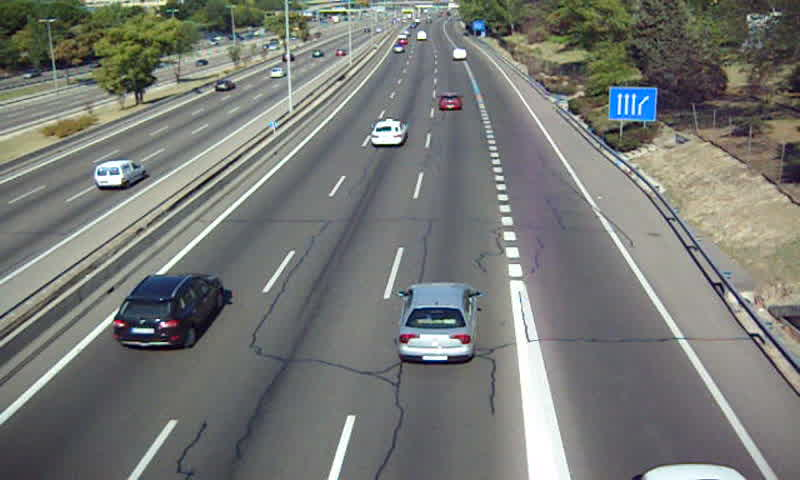car: (115, 273, 222, 349), (397, 283, 473, 362), (370, 118, 408, 148), (438, 92, 461, 110)
